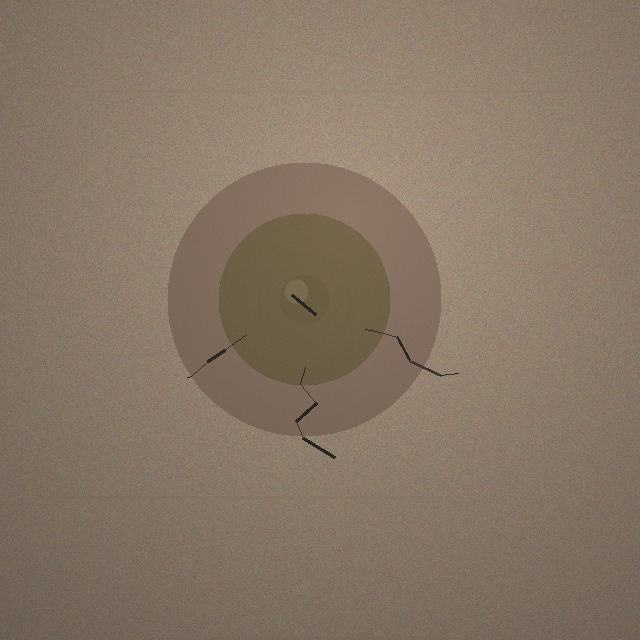crack: (167, 162, 441, 436)
